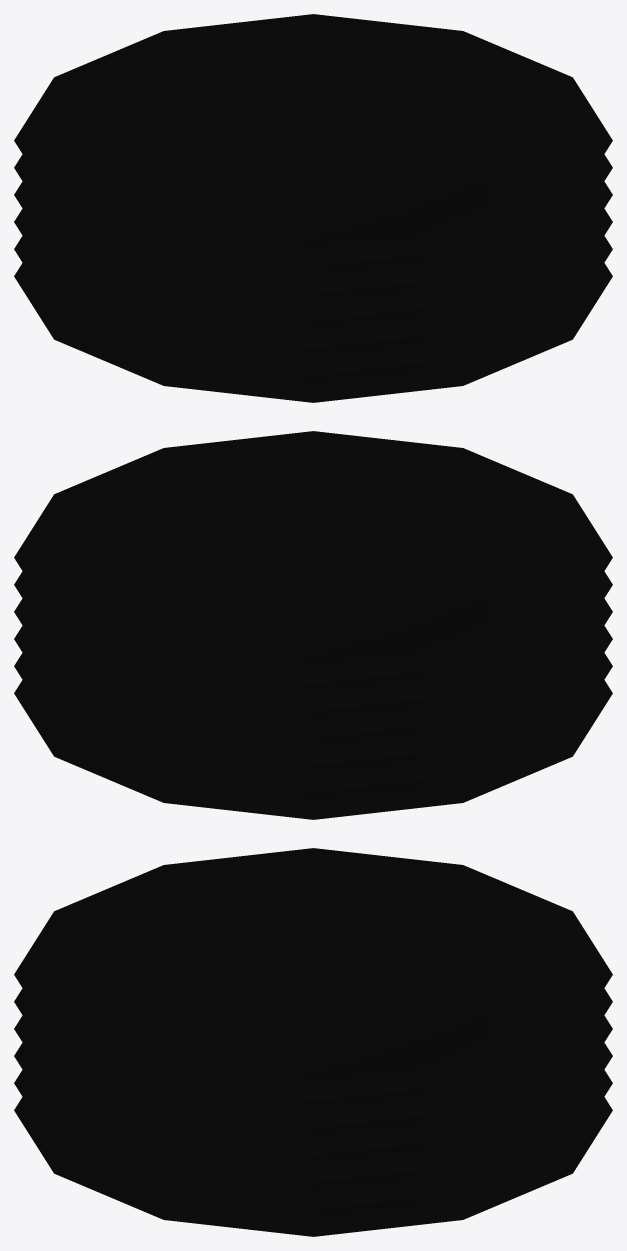
The model's file is SM_plate_stack.fbx.
3 renders of one model, top to bottom at view 1: azimuth 30°, elevation 25°; view 2: azimuth 150°, elevation 25°; view 3: azimuth 270°, elevation 25°, orthographic.
Visible parts, largest first — view 1: plate_stack; view 2: plate_stack; view 3: plate_stack.
Boxes of the visible parts, left/top/right/bottom form: plate_stack: left=14, top=14, right=612, bottom=402; plate_stack: left=14, top=431, right=612, bottom=819; plate_stack: left=14, top=848, right=612, bottom=1236.
Size of the model in its own units: 0.24 by 0.08 by 0.24.
